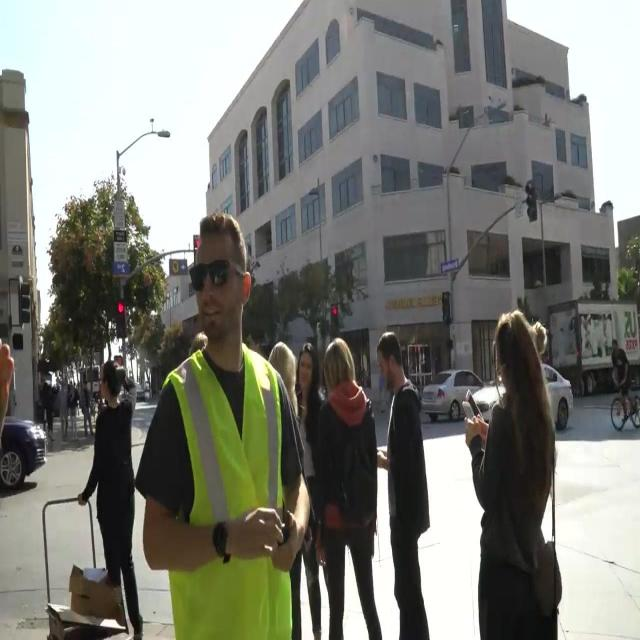Reflective-Jacket: (157, 340, 297, 638)
